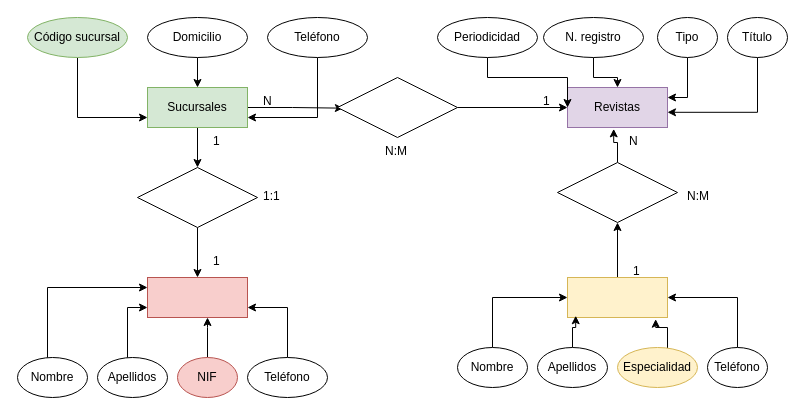
The diagram is 805 pixels wide and 415 high, and some of its shapes have lost their labels. The shapes that lost their labels are listed below. From the top down, each one's centre as x and y in pixels, then its label:
(x=397, y=107): Publica
(x=197, y=197): TIENE
(x=617, y=192): Escriben
(x=197, y=297): Empleados
(x=617, y=297): Periodistas
